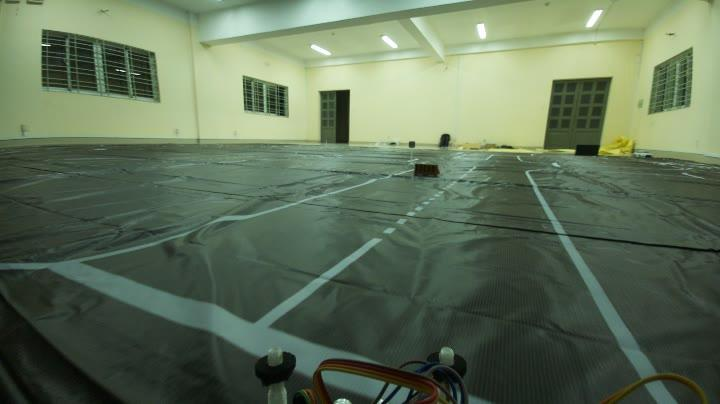roadblock: (410, 158, 444, 181)
